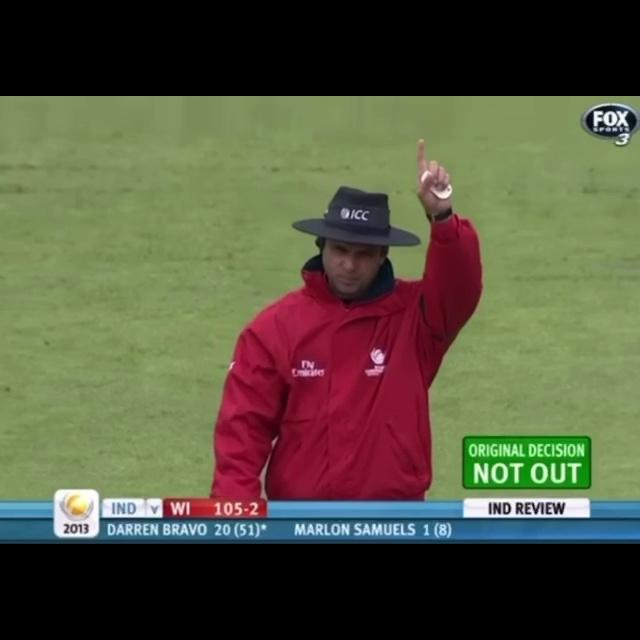umpire: (189, 117, 486, 500)
